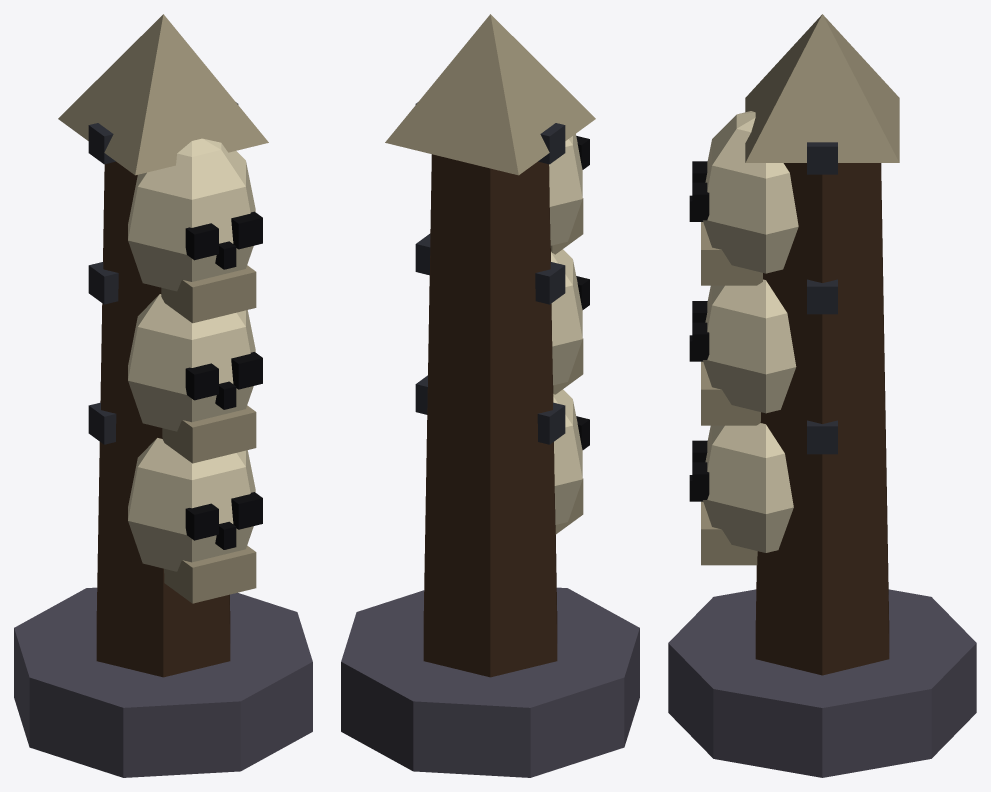
Rendered from statue_skull_totem.fbx.
3 views of the same model, side by side, from view 1: azimuth 30°, elevation 25°; view 2: azimuth 150°, elevation 25°; view 3: azimuth 270°, elevation 25° (orthographic).
Visible parts, largest first — view 1: statue_skull_totem; view 2: statue_skull_totem; view 3: statue_skull_totem.
Part boxes in pixels (bbox=[...]): statue_skull_totem: bbox=[14, 14, 312, 777]; statue_skull_totem: bbox=[341, 14, 639, 777]; statue_skull_totem: bbox=[668, 14, 976, 777].
Bounding box in the file's own units: 1.2 × 3 × 1.2.
